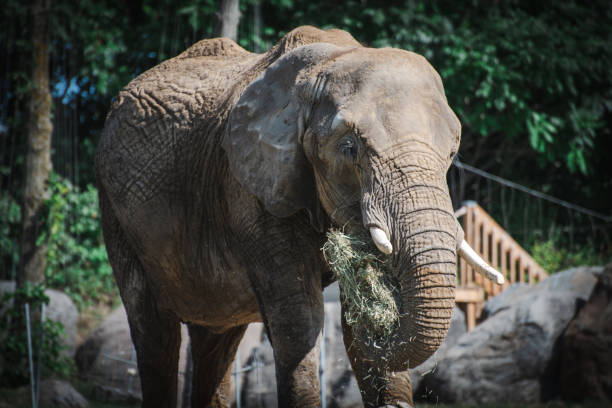africanelephant: (230, 39, 468, 339)
